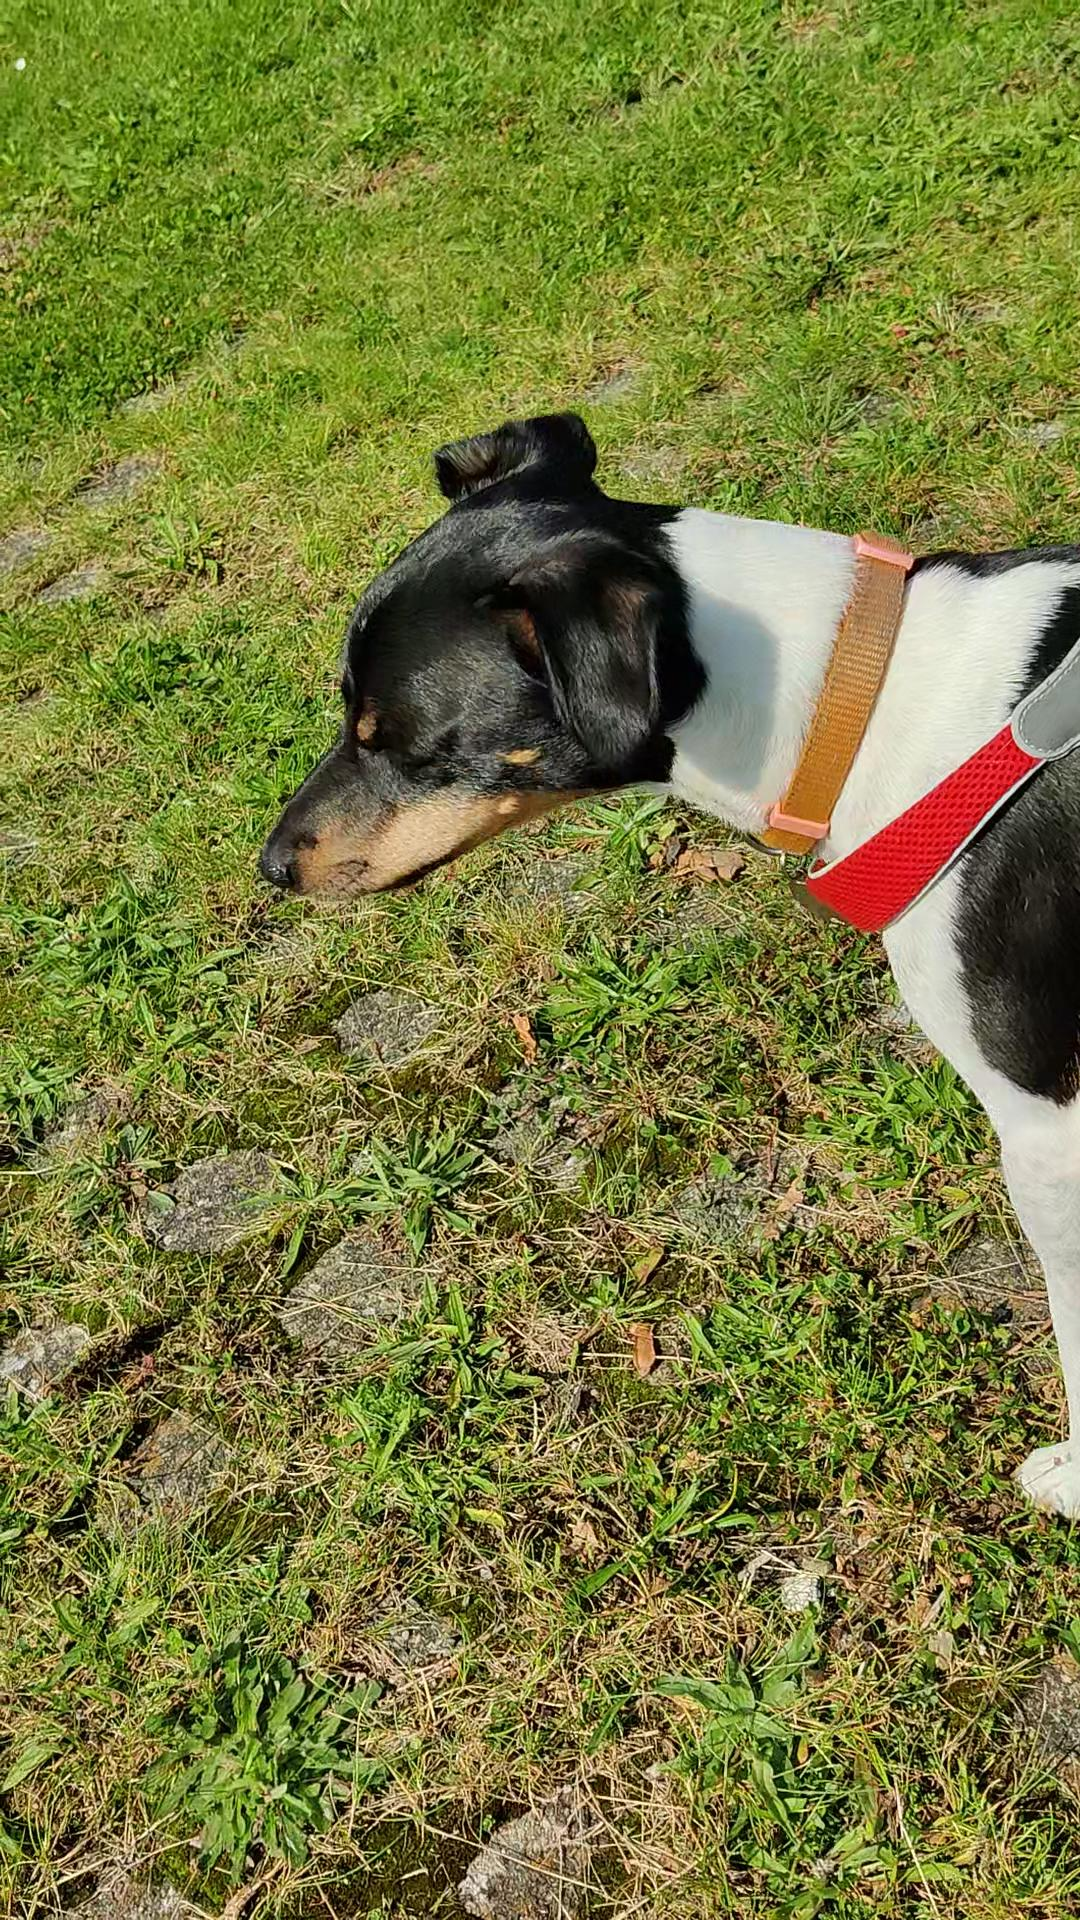Dog: (190, 378, 1079, 1556)
